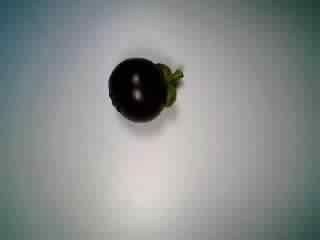mangosteen: (103, 48, 184, 133)
